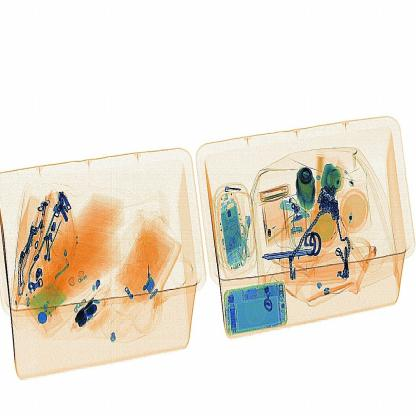pliers: (258, 240, 325, 268)
